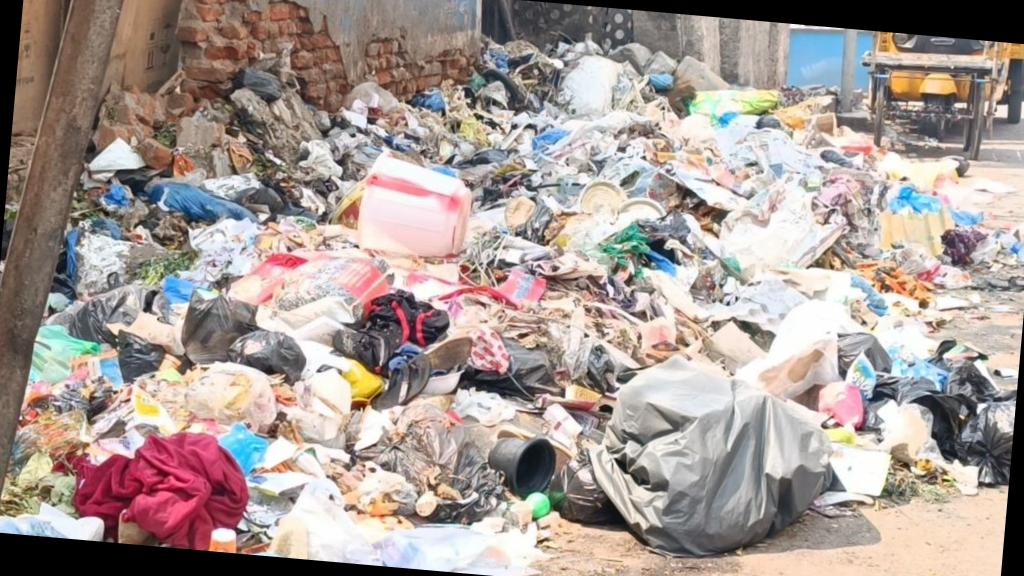trash: (130, 119, 1024, 576), (591, 355, 831, 554), (720, 181, 845, 276), (357, 153, 470, 256)
